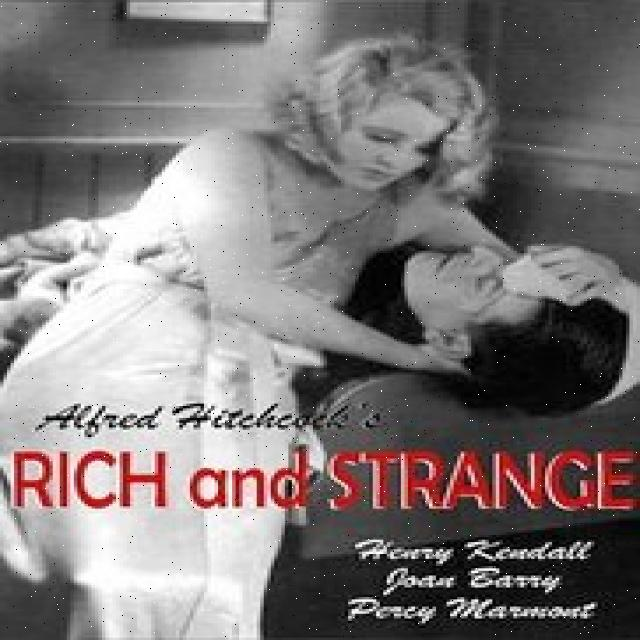movie-judul: (3, 367, 640, 628)
picture: (10, 11, 640, 640)
